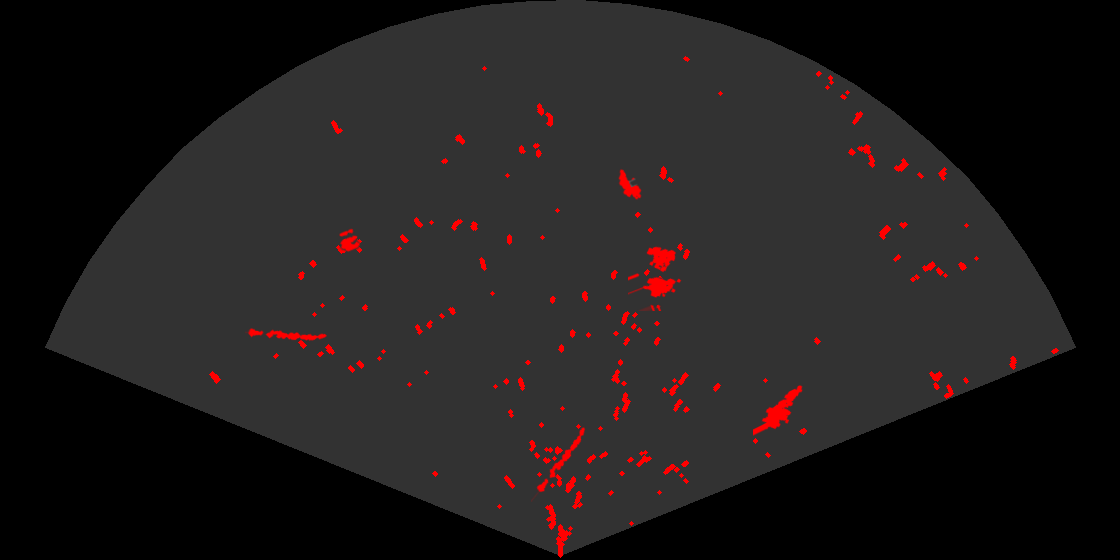AUV: (617, 167, 643, 201)
ball: (338, 227, 361, 254)
cage: (628, 245, 683, 311)
chain: (531, 426, 587, 502), (245, 327, 327, 343)
frogman: (753, 384, 804, 437)
